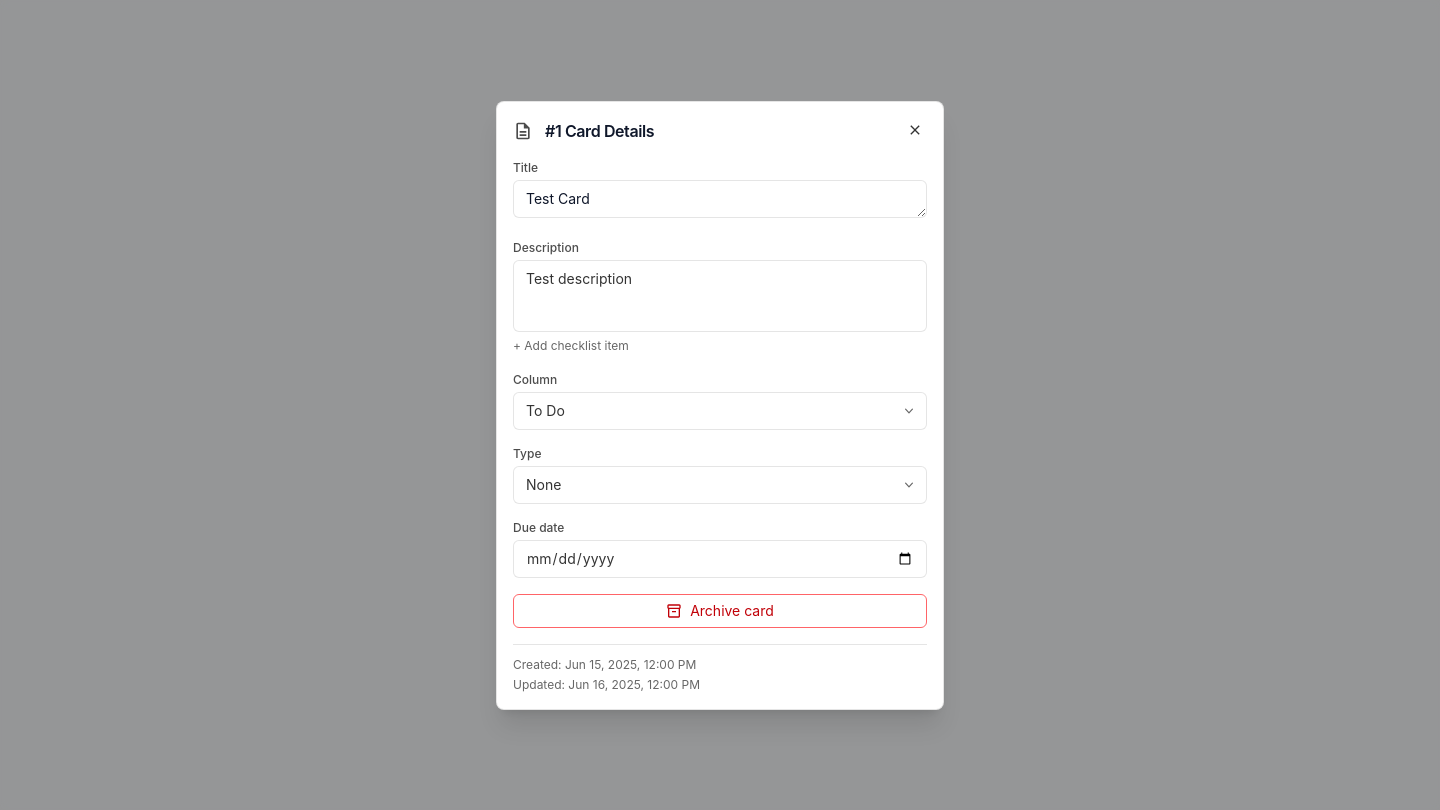
CardDetailModal › clicking preview enters edit mode with textarea
The width and height of the screenshot is (1440, 810).
Click the element with test id "card-detail-description-preview" at (720, 296), box [513,260,927,332]
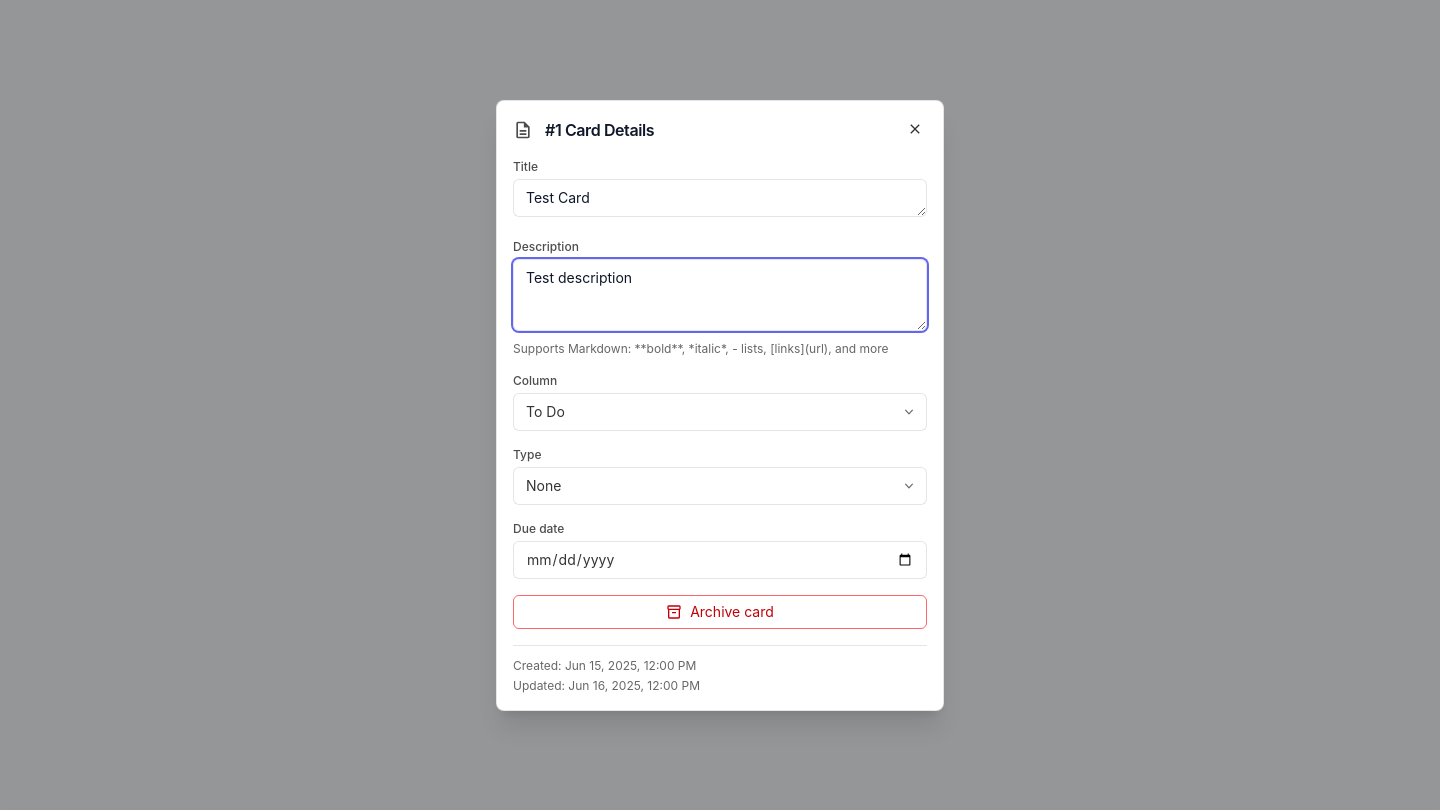
Expected: the text box with test id "card-detail-description" holds "Test description", [513,258,927,330]
